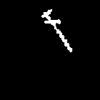double_crochet: (42, 9, 71, 51)
